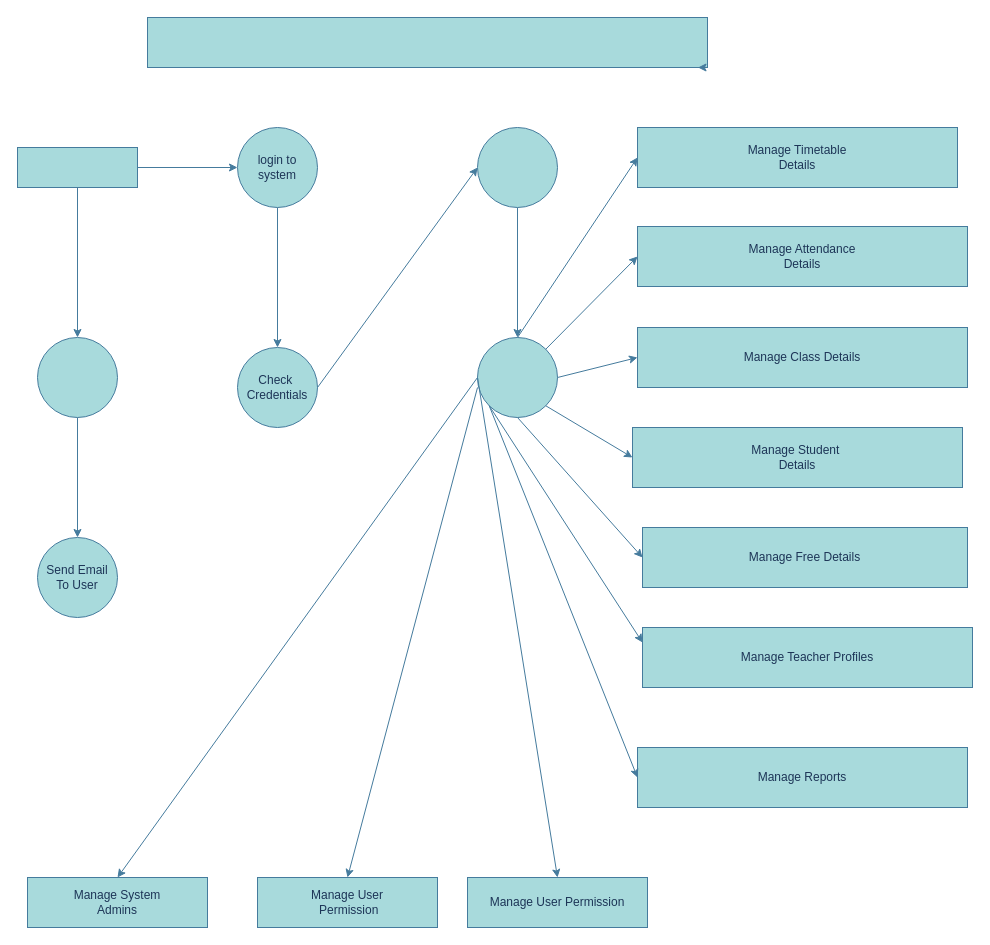
The diagram is 990 pixels wide and 945 high, and some of its shapes have lost their labels. Here are the shapes that lost their labels. From the top down, the centre of each, then its label:
At (x=427, y=42): "Student information system".
At (x=77, y=167): "Admin".
At (x=517, y=167): "check Roles of Access".
At (x=77, y=377): "Forgot Password".
At (x=517, y=377): "Manage Modules".
